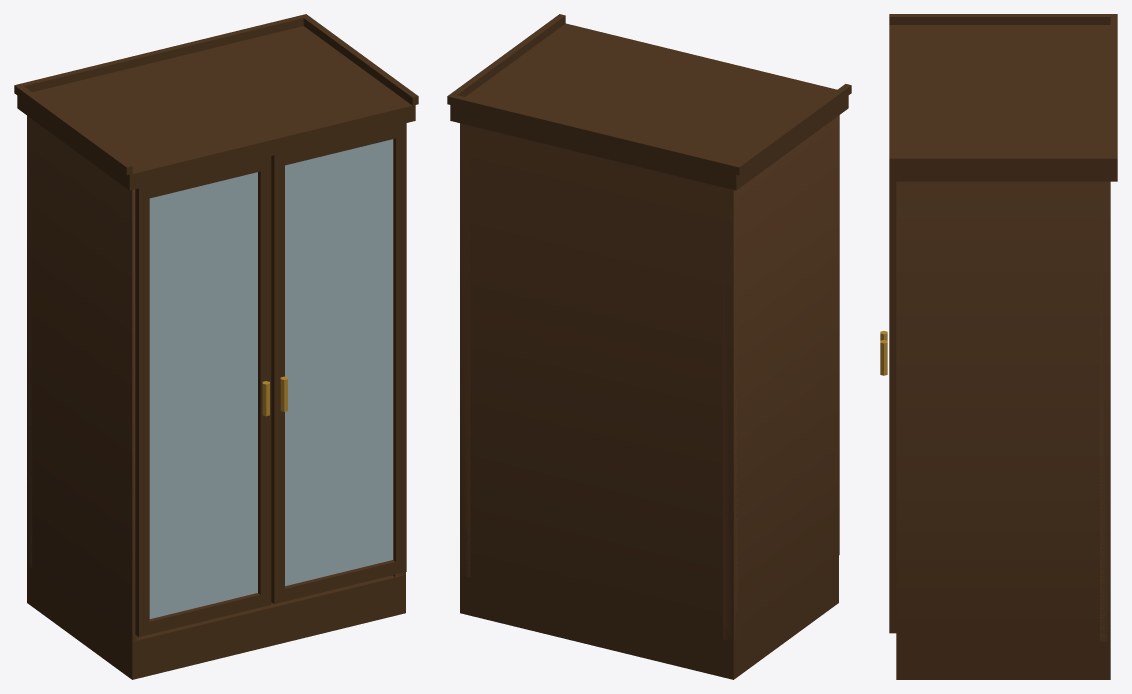
The model's file is tu_bao_kinh.glb.
3 renders of one model, left to right at view 1: azimuth 30°, elevation 25°; view 2: azimuth 150°, elevation 25°; view 3: azimuth 270°, elevation 25°, orthographic.
Visible parts, largest first — view 1: tu_bao_kinh; view 2: tu_bao_kinh; view 3: tu_bao_kinh.
Boxes of the visible parts, x1,y1,x2,y2 form: tu_bao_kinh: (14, 14, 418, 679); tu_bao_kinh: (447, 14, 851, 679); tu_bao_kinh: (880, 14, 1117, 679).
Size of the model in its own units: 0.96 by 1.62 by 0.6654.
